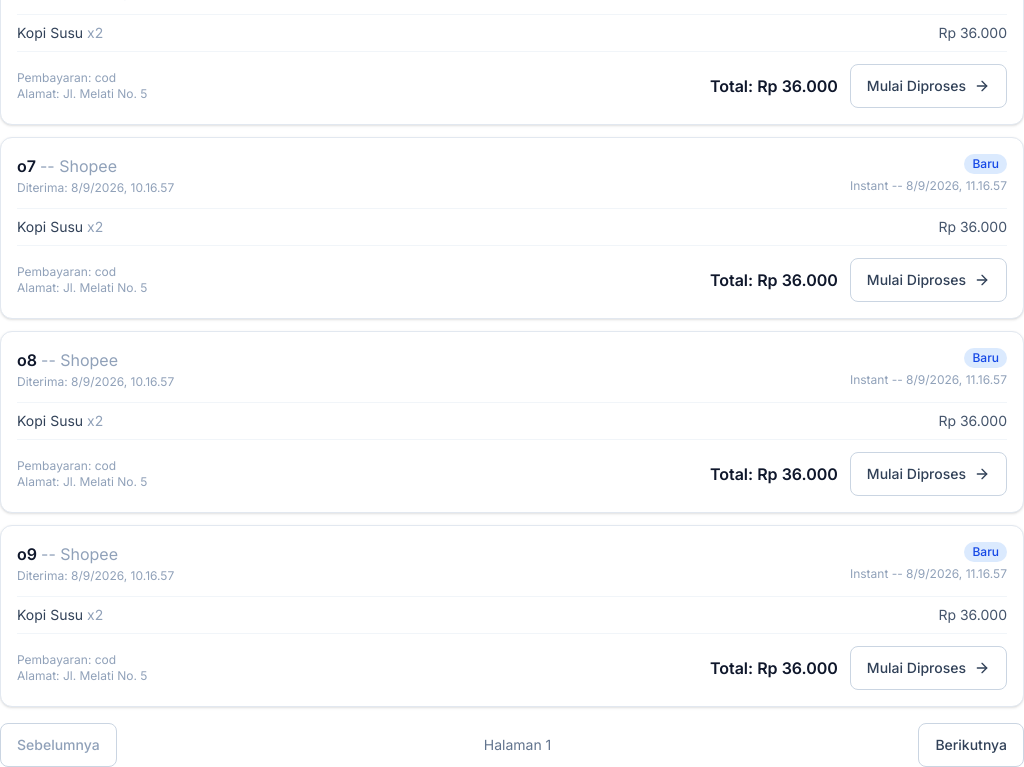
OrdersPage › pagination › ganti filter -- balik lagi ke halaman 1
This screenshot has width=1024, height=767.
(page scrolled)
Expected: the text "Halaman 1" is shown, [484,735,551,755]
Click the button "Berikutnya" at (971, 745), box [918,723,1023,766]
(page scrolled)
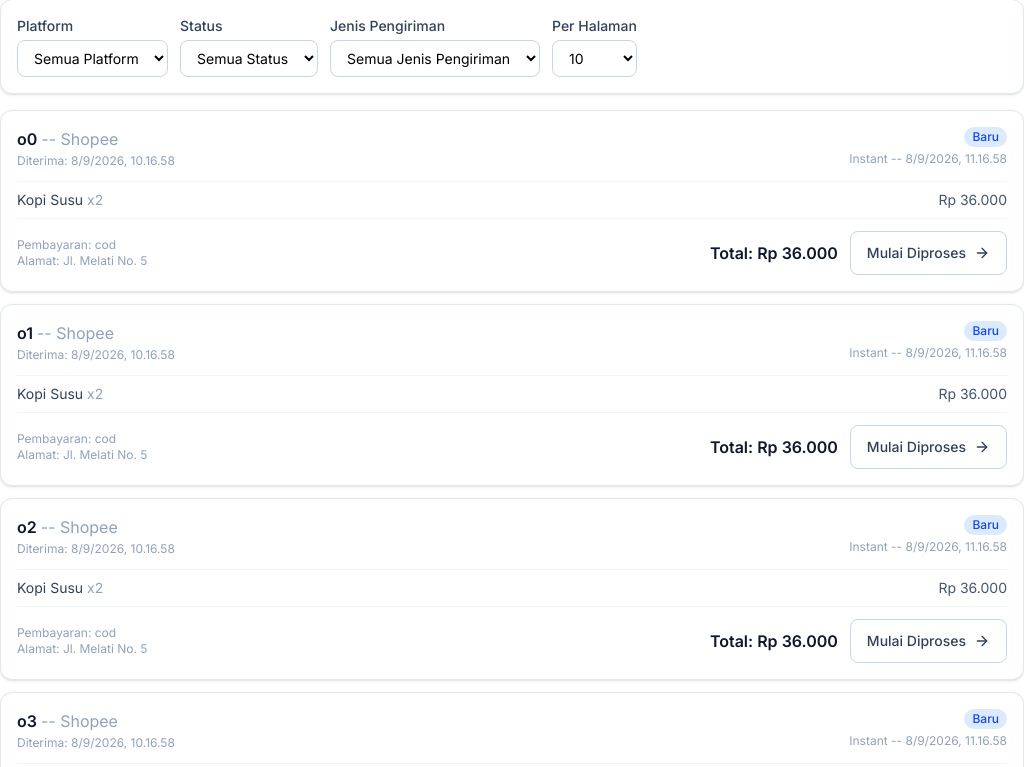
Select "Diproses" in the dropdown labelled "Status" at (249, 58), box [180,40,318,77]
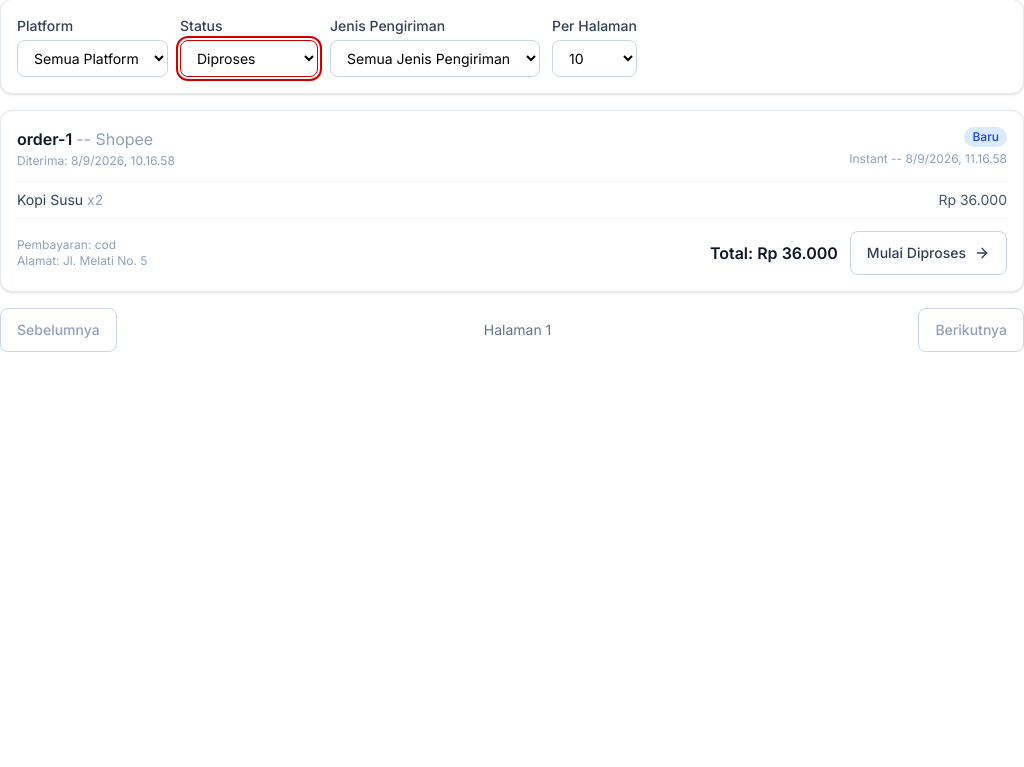
Now the text "Halaman 1" is shown, box [484,320,551,340]
